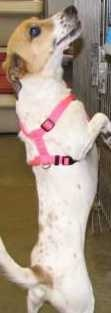dog: (0, 0, 111, 293)
